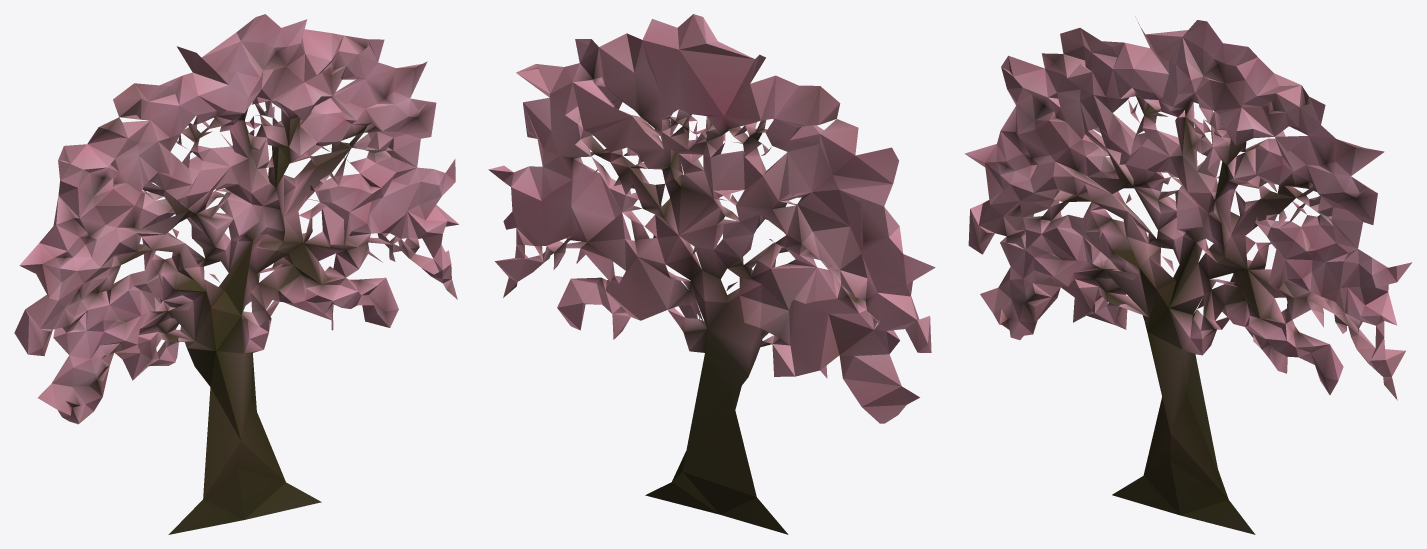
The model's file is lib_tp_sakura.vc2.glb.
3 views of the same model, side by side, from view 1: azimuth 30°, elevation 25°; view 2: azimuth 150°, elevation 25°; view 3: azimuth 330°, elevation 25° (orthographic).
Parts seen in each view (by area): view 1: lib_tp_sakura; view 2: lib_tp_sakura; view 3: lib_tp_sakura.
Part boxes in pixels (<box>): lib_tp_sakura: <box>14,14,459,534</box>; lib_tp_sakura: <box>488,14,935,534</box>; lib_tp_sakura: <box>964,16,1412,534</box>.
Size of the model in its own units: 1.75 by 1.88 by 0.118.
